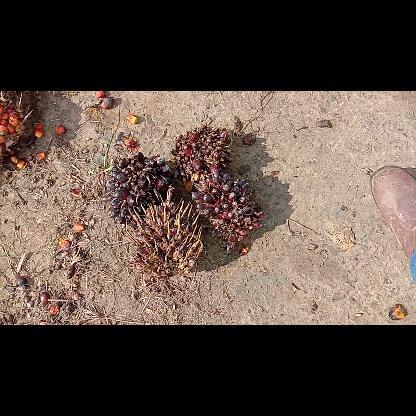TBS abnormal: (122, 184, 202, 280), (192, 174, 262, 252), (103, 152, 171, 226), (172, 126, 230, 190)
